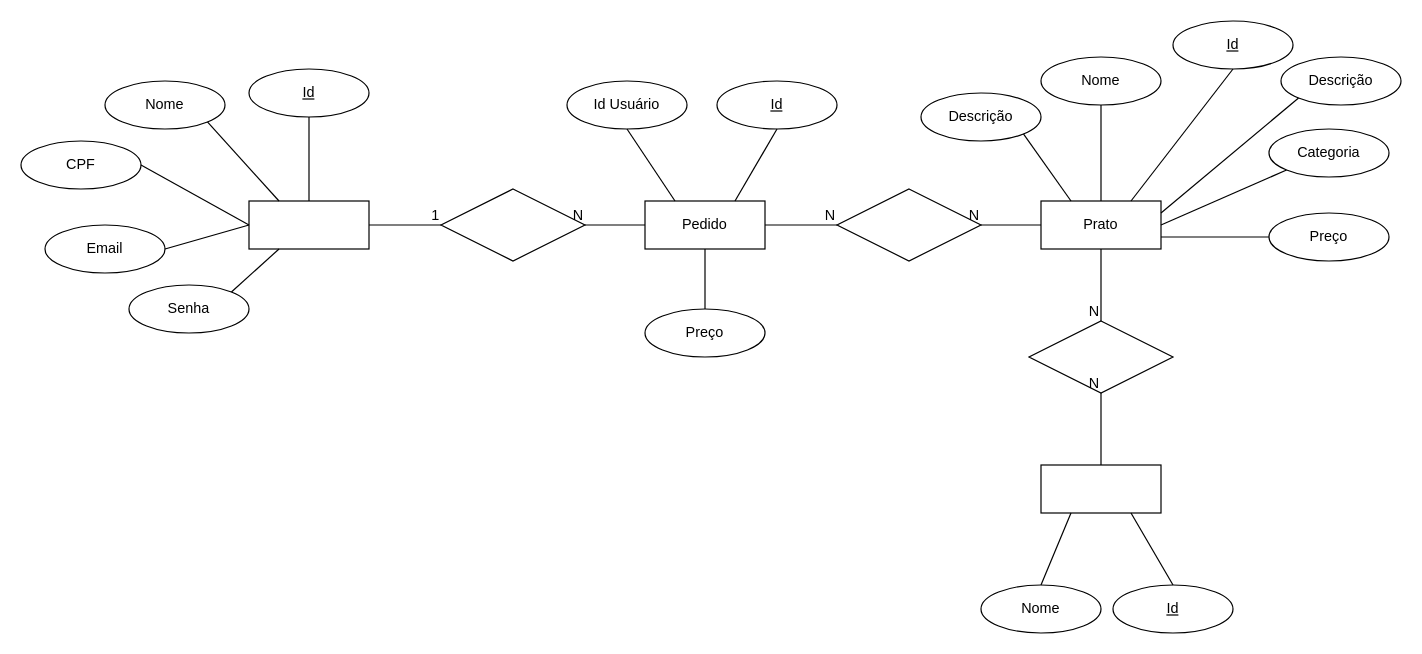
Image size: 1422x654. Some labels were removed from this diagram. The box of each missing label's shape, as (x1, y1, x2, y2) in pixels:
Compõe: (1028, 320, 1173, 393)
Faz: (440, 188, 585, 261)
Menu: (1040, 464, 1161, 513)
Possui: (836, 188, 981, 261)
Usuário: (248, 200, 369, 249)
